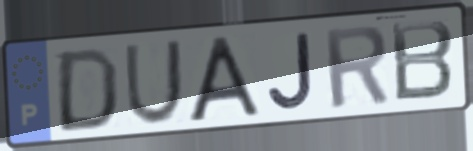A: (185, 33, 265, 125)
B: (387, 17, 456, 105)
D: (54, 45, 122, 135)
J: (264, 29, 317, 113)
R: (320, 22, 392, 111)
U: (122, 37, 185, 127)
